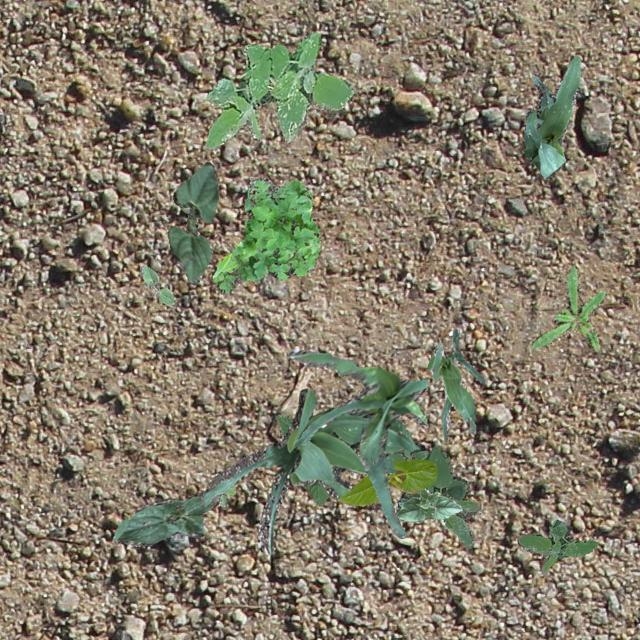crop: (200, 388, 430, 552), (288, 348, 427, 538), (522, 54, 580, 178), (426, 326, 484, 442), (166, 160, 218, 284), (274, 414, 340, 504), (111, 492, 212, 544), (336, 458, 436, 504), (394, 486, 460, 520), (138, 264, 174, 304)
weed: (204, 32, 352, 152), (212, 176, 320, 292), (384, 444, 478, 548), (530, 264, 606, 350), (516, 518, 596, 570), (218, 484, 235, 506)
